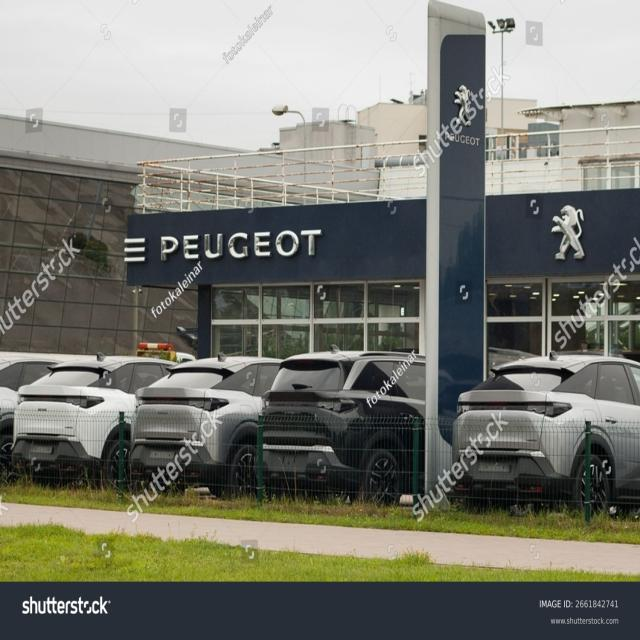pegout: (550, 202, 588, 263)
